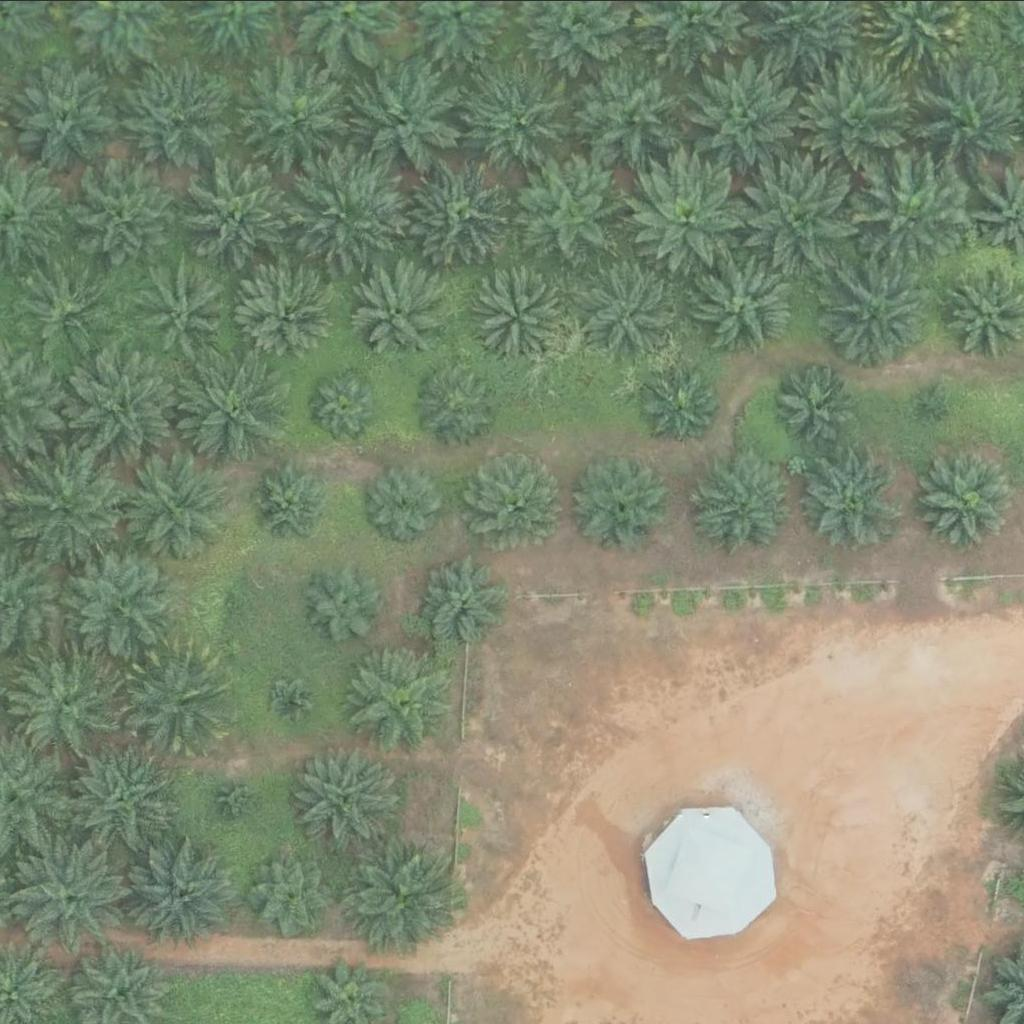Kelapa_Sawit: (167, 352, 281, 465), (8, 452, 122, 565), (818, 257, 932, 370), (7, 57, 120, 170), (117, 61, 230, 174), (71, 155, 184, 268), (118, 447, 231, 560), (15, 837, 128, 950), (130, 834, 243, 947), (343, 834, 456, 947), (289, 153, 402, 266), (406, 152, 519, 265), (237, 56, 350, 169), (351, 59, 464, 172), (462, 65, 575, 178), (577, 57, 690, 170), (182, 156, 296, 268), (65, 347, 179, 459), (343, 643, 457, 755), (746, 158, 860, 270), (852, 155, 966, 267), (119, 644, 232, 756), (65, 541, 178, 653), (9, 646, 122, 758), (62, 742, 175, 854), (293, 742, 406, 854), (515, 158, 628, 270), (636, 159, 749, 271), (688, 56, 801, 168), (803, 67, 916, 179), (690, 457, 791, 557), (239, 265, 340, 365), (351, 259, 452, 359), (469, 264, 570, 364), (801, 449, 902, 549), (909, 451, 1010, 551), (15, 261, 115, 361), (134, 257, 234, 357), (464, 447, 564, 547), (571, 452, 671, 552), (583, 254, 683, 354), (696, 252, 796, 352), (416, 550, 504, 638), (251, 848, 339, 935), (301, 557, 389, 644), (251, 458, 339, 545), (360, 461, 448, 548), (415, 359, 503, 446), (771, 361, 859, 448), (643, 366, 719, 441), (307, 368, 382, 443), (209, 770, 260, 820), (265, 676, 316, 726), (202, 579, 252, 629), (919, 385, 944, 410)
